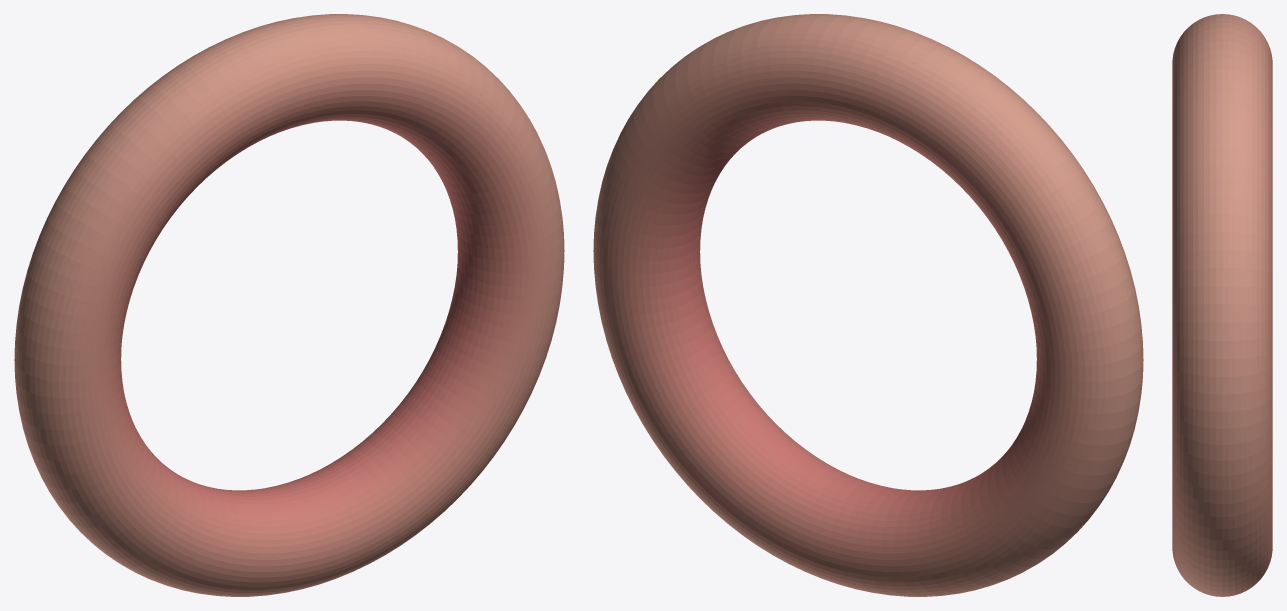
The picture shows the model from 3 angles, left to right: view 1: azimuth 30°, elevation 25°; view 2: azimuth 150°, elevation 25°; view 3: azimuth 270°, elevation 25°; orthographic projection. The views are drawn at different scales.
Visible parts, largest first — view 1: world; view 2: world; view 3: world.
Boxes of the visible parts, box(x1,y1,x2,y2) form: world: box(14, 14, 564, 596); world: box(593, 14, 1143, 596); world: box(1172, 14, 1272, 596).
Size of the model in its own units: 19.33 by 19.33 by 3.33.
